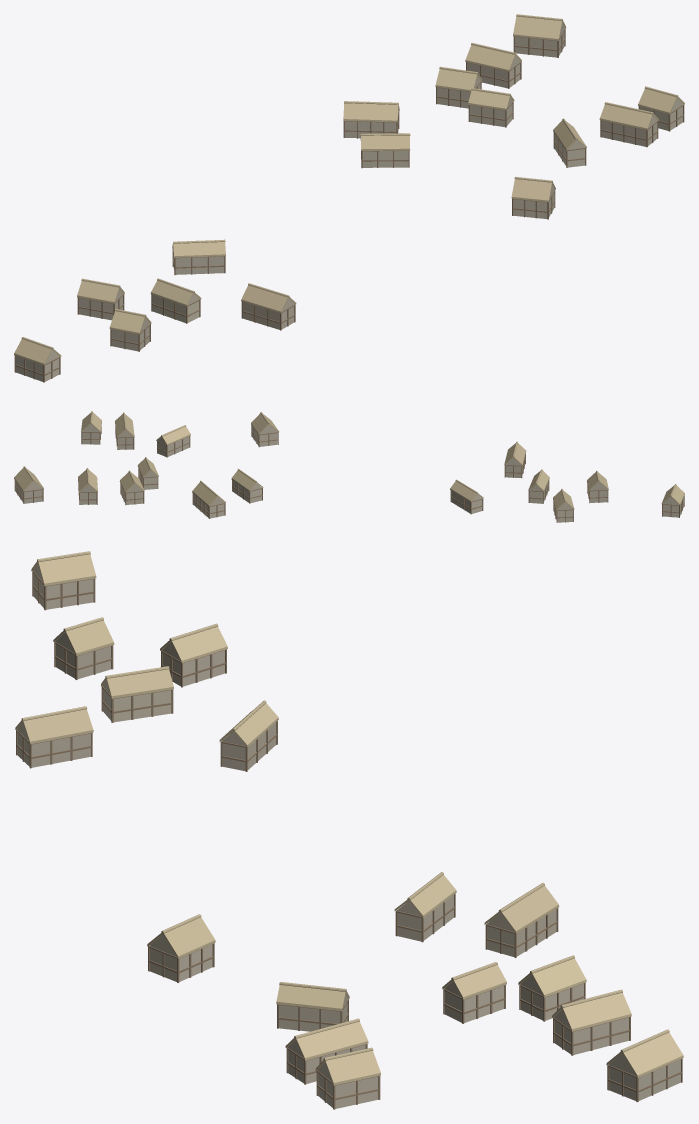
Rendered from roman-vicus.near.glb.
3 renders of one model, top to bottom at view 1: azimuth 30°, elevation 25°; view 2: azimuth 150°, elevation 25°; view 3: azimuth 270°, elevation 25°, orthographic. The views are drawn at different scales.
Visible parts, largest first — view 1: vicus/house-14, vicus/house-9, vicus/house-13, vicus/house-1, vicus/house-6, vicus/house-15, vicus/house-11, vicus/house-4, vicus/house-16, vicus/house-10, vicus/house-7, vicus/house-12 (+4 smaller); view 2: vicus/house-13, vicus/house-9, vicus/house-15, vicus/house-5, vicus/house-11, vicus/house-4, vicus/house-8, vicus/house-1, vicus/house-6, vicus/house-14, vicus/house-10, vicus/house-3 (+4 smaller); view 3: vicus/house-6, vicus/house-9, vicus/house-1, vicus/house-13, vicus/house-16, vicus/house-4, vicus/house-3, vicus/house-10, vicus/house-5, vicus/house-7, vicus/house-8, vicus/house-14 (+4 smaller).
Boxes of the visible parts, x1=… form: vicus/house-14: x1=599, y1=102, x2=658, y2=147; vicus/house-9: x1=513, y1=14, x2=566, y2=57; vicus/house-13: x1=343, y1=101, x2=399, y2=138; vicus/house-1: x1=241, y1=283, x2=296, y2=330; vicus/house-6: x1=465, y1=43, x2=521, y2=88; vicus/house-15: x1=172, y1=239, x2=225, y2=274; vicus/house-11: x1=360, y1=133, x2=410, y2=168; vicus/house-4: x1=511, y1=176, x2=555, y2=219; vicus/house-16: x1=150, y1=278, x2=201, y2=323; vicus/house-10: x1=14, y1=337, x2=61, y2=382; vicus/house-7: x1=77, y1=278, x2=124, y2=320; vicus/house-12: x1=468, y1=88, x2=514, y2=127; vicus/house-13: x1=192, y1=480, x2=225, y2=518; vicus/house-9: x1=14, y1=466, x2=43, y2=503; vicus/house-15: x1=450, y1=479, x2=483, y2=514; vicus/house-5: x1=156, y1=425, x2=190, y2=457; vicus/house-11: x1=231, y1=469, x2=263, y2=503; vicus/house-4: x1=251, y1=412, x2=278, y2=447; vicus/house-8: x1=119, y1=470, x2=144, y2=505; vicus/house-1: x1=504, y1=441, x2=526, y2=478; vicus/house-6: x1=78, y1=468, x2=97, y2=504; vicus/house-14: x1=115, y1=412, x2=134, y2=449; vicus/house-10: x1=661, y1=484, x2=684, y2=517; vicus/house-3: x1=81, y1=411, x2=101, y2=444; vicus/house-6: x1=552, y1=989, x2=631, y2=1055; vicus/house-9: x1=606, y1=1029, x2=683, y2=1102; vicus/house-1: x1=15, y1=706, x2=93, y2=768; vicus/house-13: x1=484, y1=882, x2=559, y2=957; vicus/house-16: x1=101, y1=666, x2=173, y2=722; vicus/house-4: x1=147, y1=914, x2=215, y2=982; vicus/house-3: x1=315, y1=1047, x2=380, y2=1109; vicus/house-10: x1=31, y1=551, x2=96, y2=610; vicus/house-5: x1=276, y1=982, x2=349, y2=1031; vicus/house-7: x1=160, y1=623, x2=227, y2=687; vicus/house-8: x1=518, y1=955, x2=586, y2=1021; vicus/house-14: x1=285, y1=1018, x2=368, y2=1084.
Size of the model in its own units: 182 by 7.57 by 98.42.
